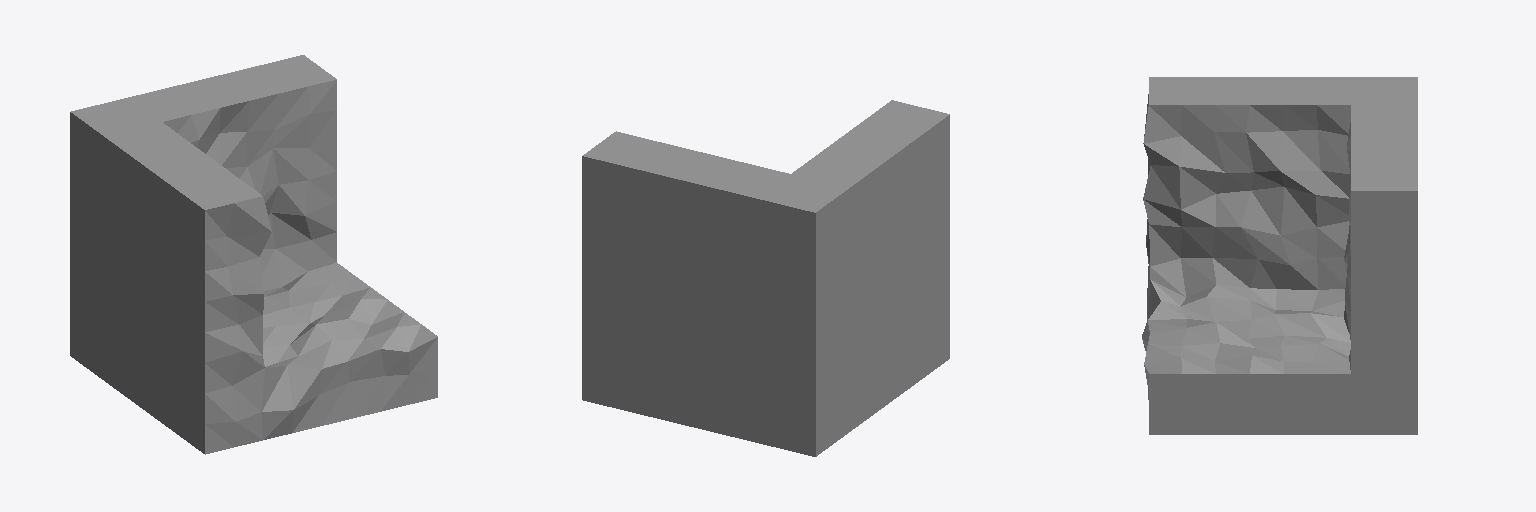
File: startCorner.obj
The picture shows the model from 3 angles: view 1: azimuth 30°, elevation 25°; view 2: azimuth 150°, elevation 25°; view 3: azimuth 270°, elevation 25°; orthographic projection.
Visible parts, largest first — view 1: Cube; view 2: Cube; view 3: Cube.
Part boxes in pixels (x1,y1,x2,y2): Cube: (70, 55, 437, 454); Cube: (582, 100, 949, 456); Cube: (1142, 77, 1417, 434).
Bounding box in the file's own units: 2 × 2 × 2.05.